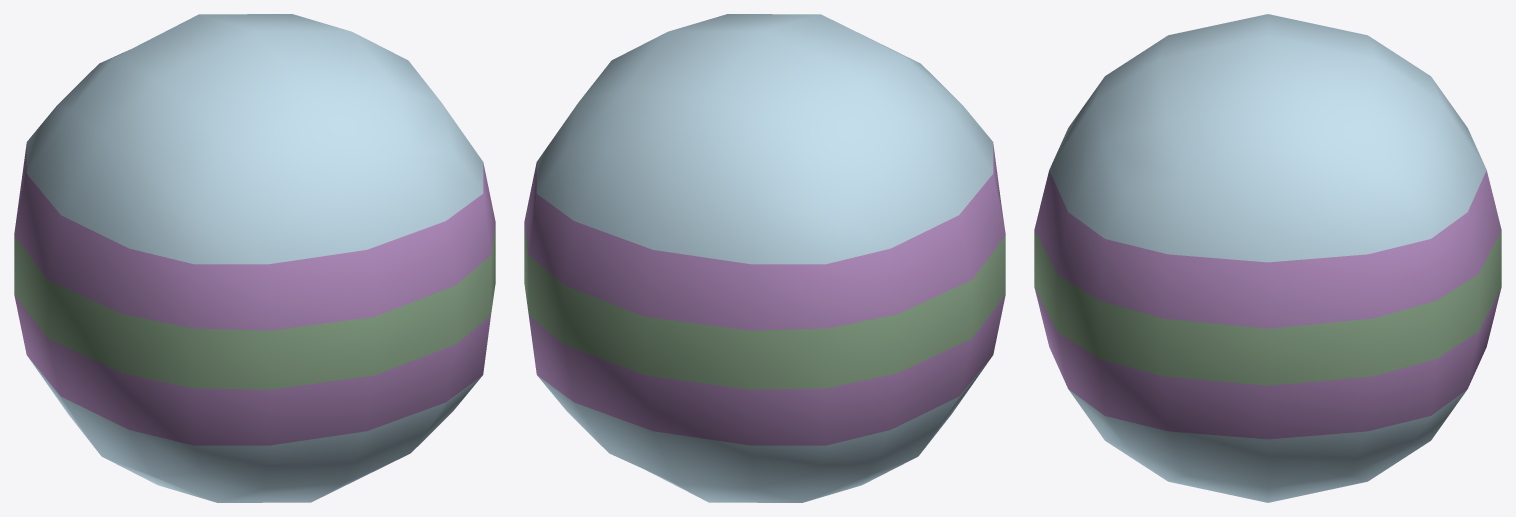
Rendered from SM_Planet_02.fbx.
3 views of the same model, side by side, from view 1: azimuth 30°, elevation 25°; view 2: azimuth 150°, elevation 25°; view 3: azimuth 270°, elevation 25° (orthographic). The views are drawn at different scales.
Parts seen in each view (by area): view 1: SM_Planet_02; view 2: SM_Planet_02; view 3: SM_Planet_02.
Part boxes in pixels (x1,y1,x2,y2): SM_Planet_02: [14, 14, 495, 502]; SM_Planet_02: [524, 14, 1005, 502]; SM_Planet_02: [1034, 14, 1501, 502].
Size of the model in its own units: 97.55 by 102 by 97.55.
